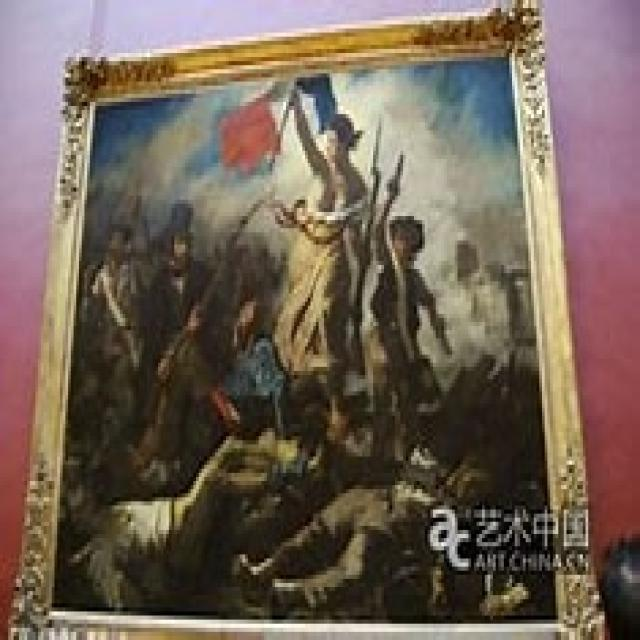libre: (65, 67, 537, 613)
